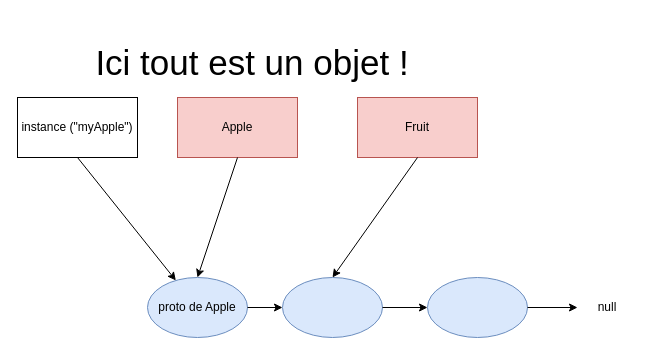
Some shapes in this 655 by 355 pixel diagram are drawn without their labels. Here are the shapes that lost their labels. From the top down, the centre of each, then its label:
At (332,307): "proto de Fruit".
At (477,307): "proto de Object".
